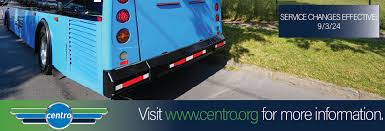bus: (5, 1, 228, 100)
